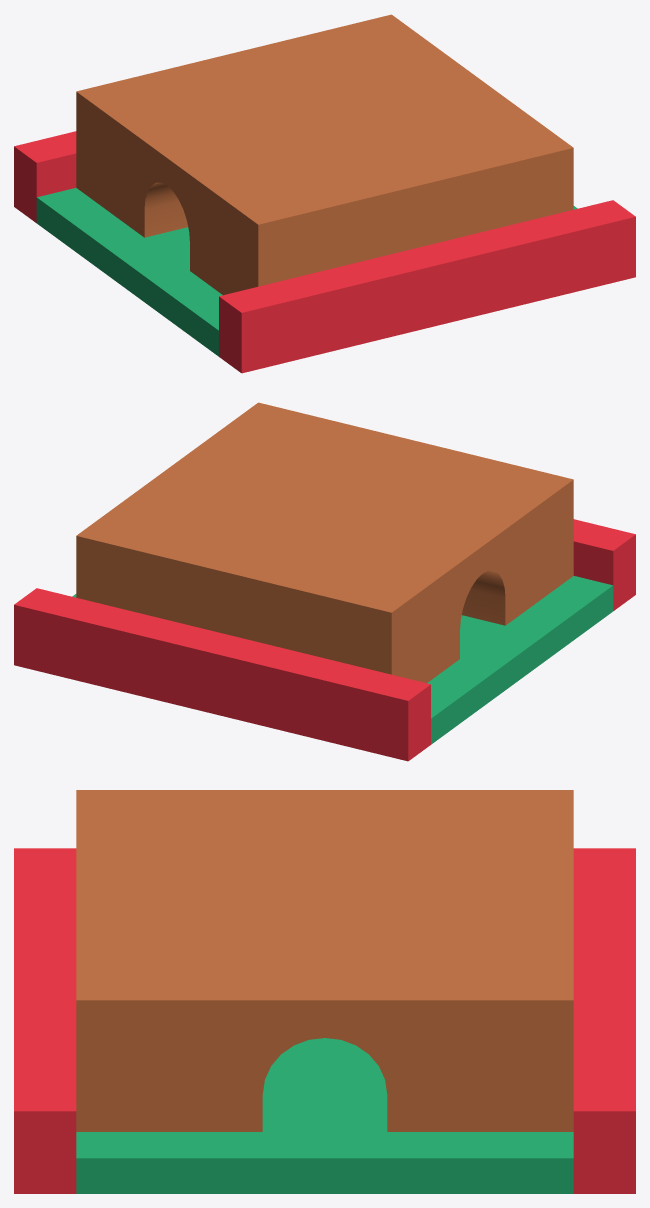
File: tunnelNarrow.obj
3 renders of one model, top to bottom at view 1: azimuth 30°, elevation 25°; view 2: azimuth 150°, elevation 25°; view 3: azimuth 270°, elevation 25°, orthographic. The views are drawn at different scales.
Parts seen in each view (by area): view 1: tunnelNarrow; view 2: tunnelNarrow; view 3: tunnelNarrow.
Part boxes in pixels (bbox=[...]): tunnelNarrow: bbox=[14, 14, 635, 373]; tunnelNarrow: bbox=[14, 402, 635, 761]; tunnelNarrow: bbox=[14, 790, 635, 1193].
Size of the model in its own units: 0.9999 by 0.2966 by 0.9999.
